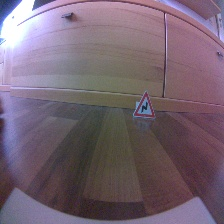vorsicht: (133, 90, 157, 119)
